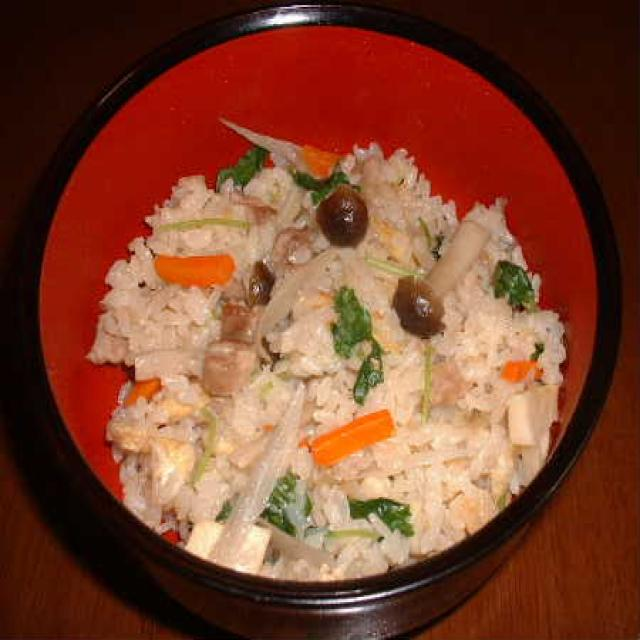米饭主食: (1, 8, 617, 640)
